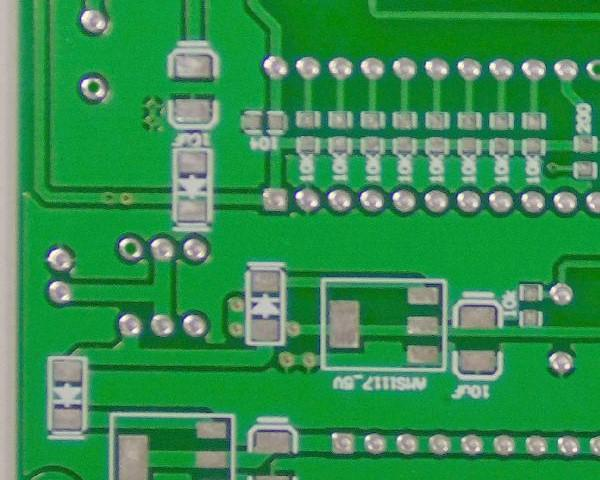missing hole: (74, 70, 114, 105), (114, 231, 151, 266)
